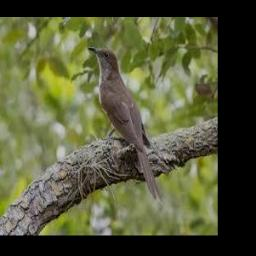Cuckoo: (88, 46, 163, 204)
